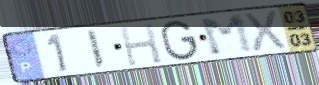1: (44, 32, 70, 74)
G: (159, 19, 201, 62)
H: (117, 22, 165, 68)
I: (84, 28, 107, 71)
M: (197, 12, 258, 58)
X: (240, 9, 289, 55)
